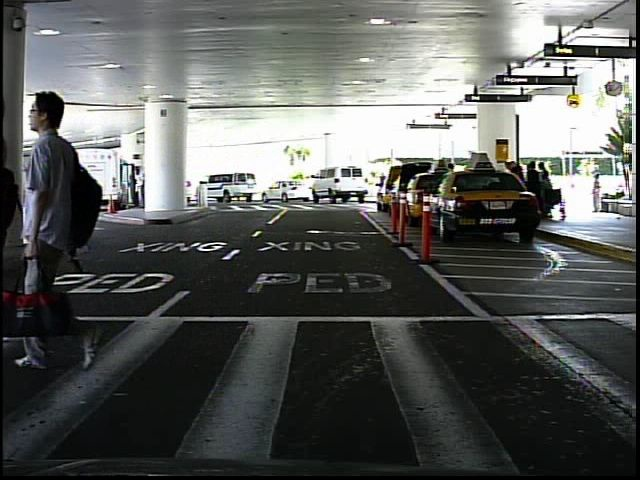person: (31, 68, 125, 385), (50, 171, 68, 221), (588, 172, 607, 218)
